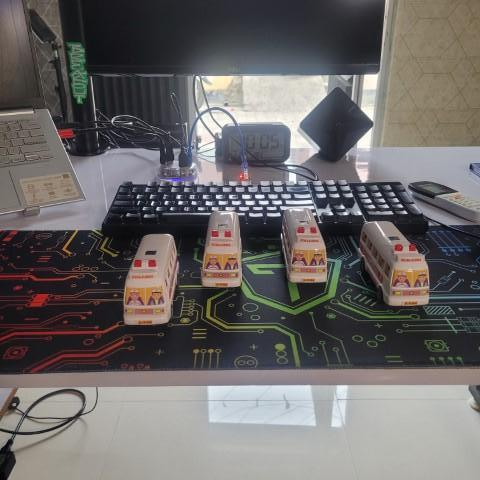ambulance: (355, 219, 434, 308), (125, 230, 178, 326), (275, 205, 330, 291), (203, 208, 244, 291)
